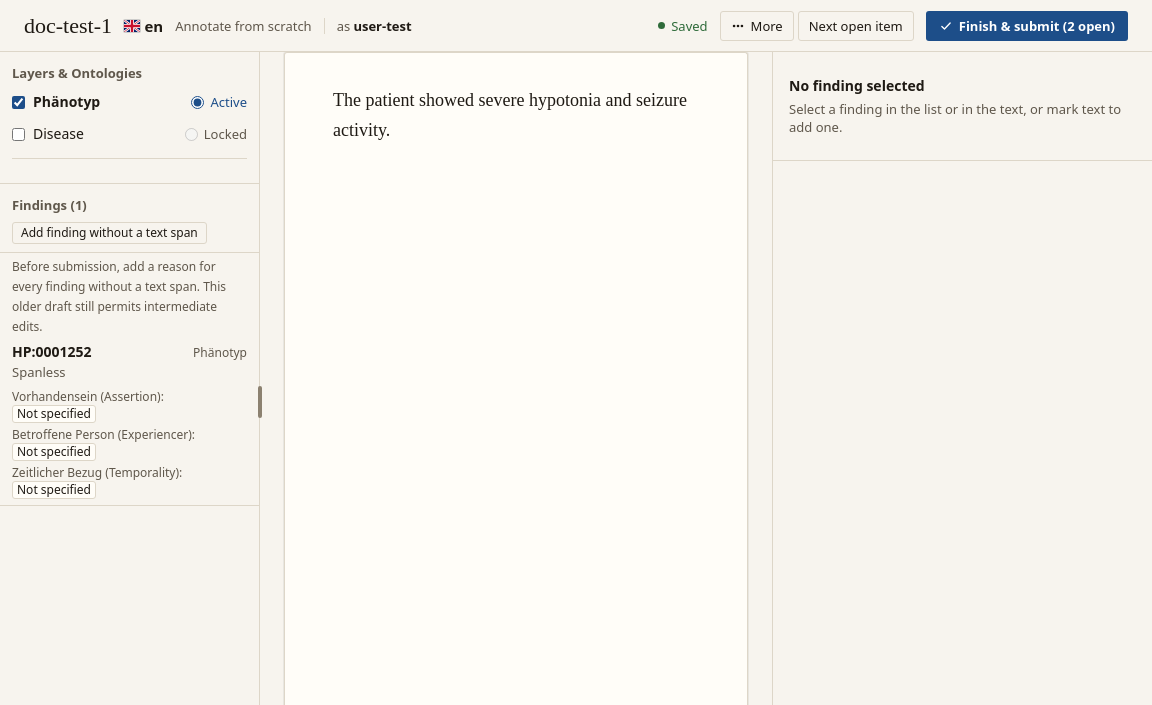
Scenario: CaseScreen integration › editor logout guard › a_failed_flush_does_not_log_out: {}
The width and height of the screenshot is (1152, 705).
Click the button that starts with "HP:0001252": (130,422) [0,337,259,506]
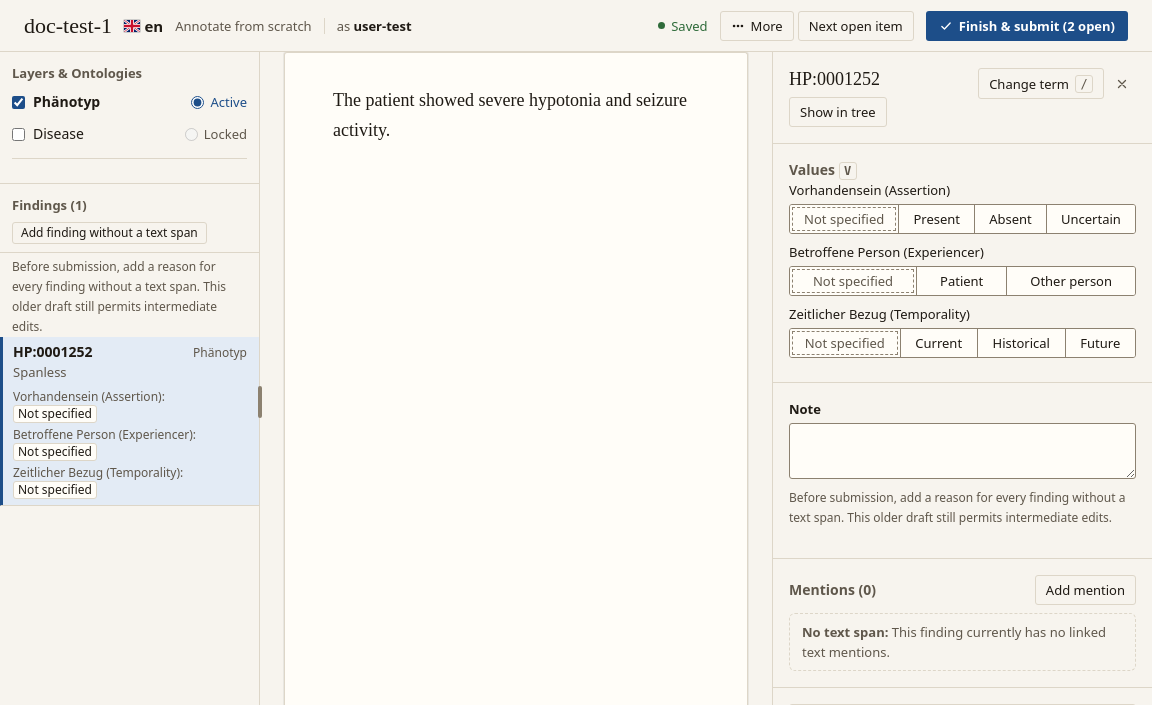
Click the radio button labelled "Present": (936,219) [898,205,974,233]
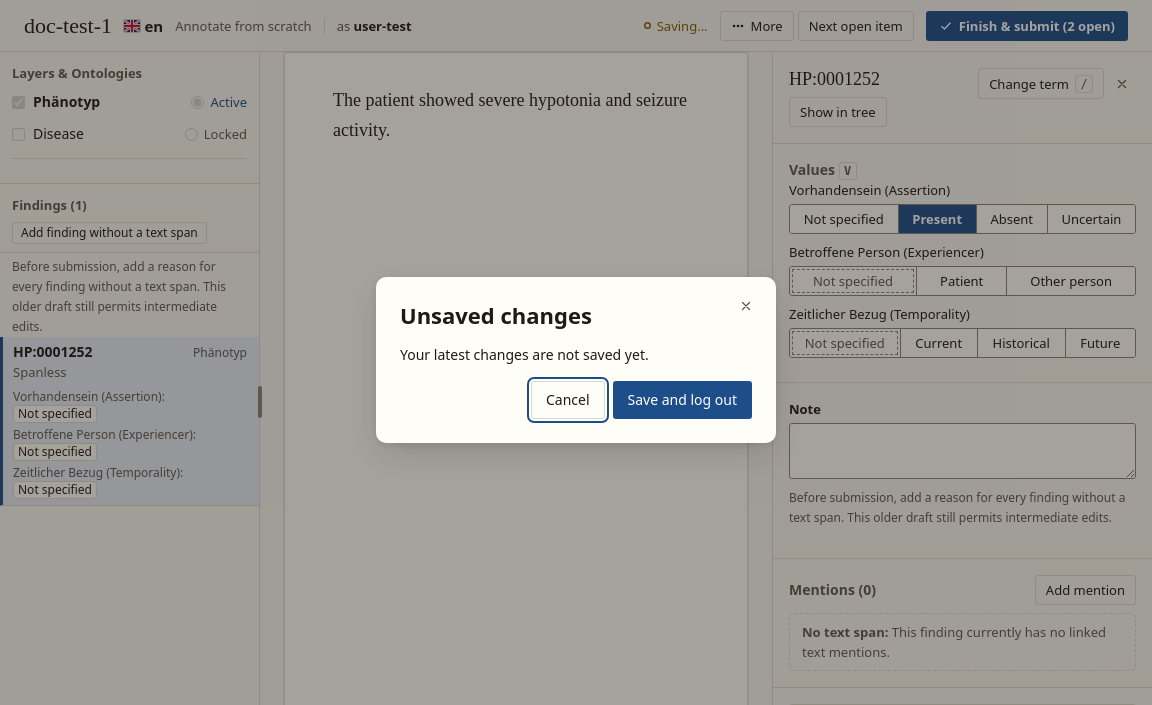
Click the button "Save and log out": (682,400) [612,381,752,419]
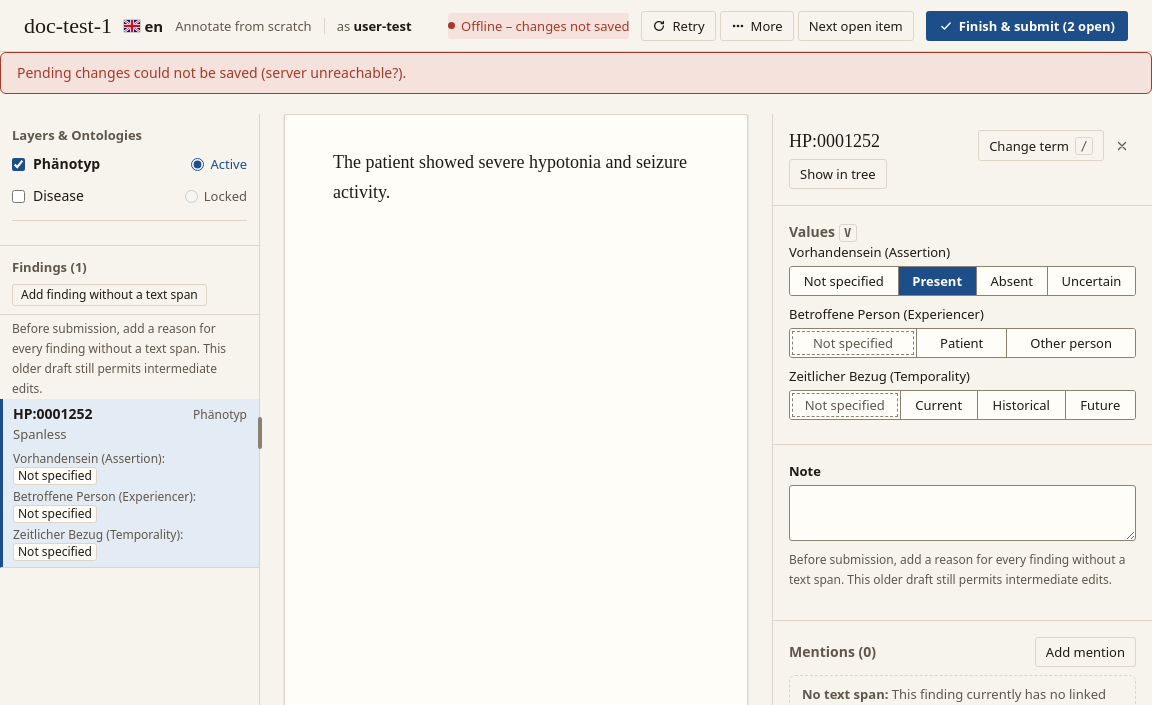
expect the dialog is gone: met
